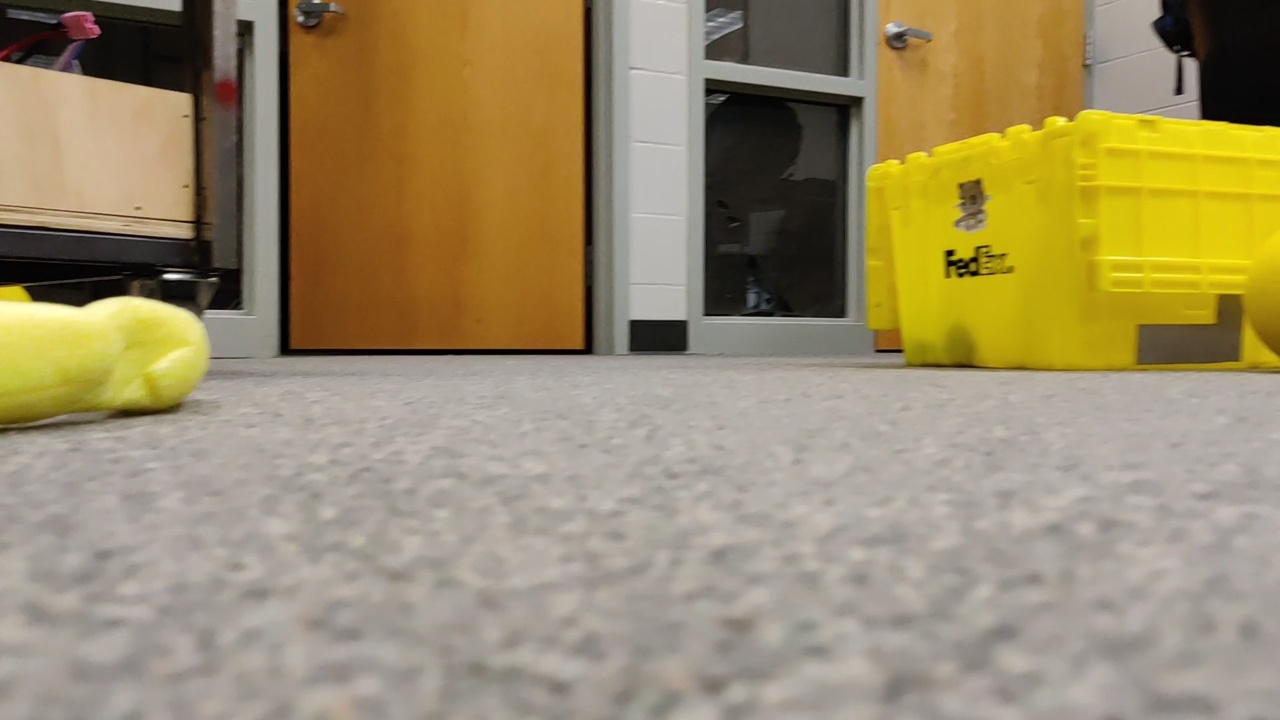Ball: (1251, 226, 1277, 378)
